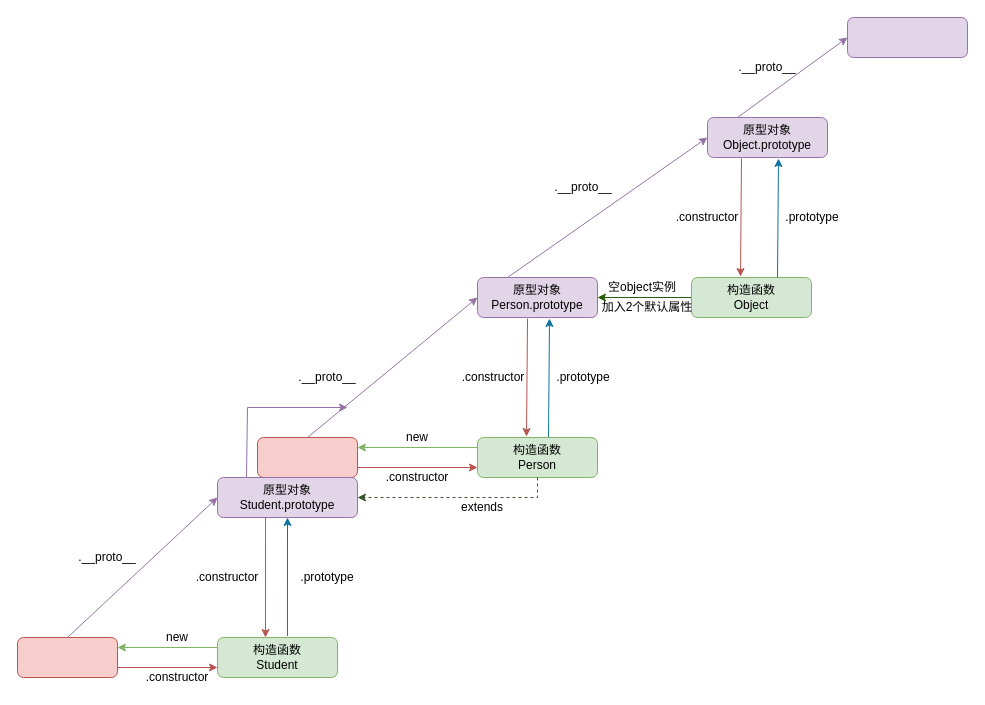
This 985x705 diagram has some shape labels left out. The centre of each missing label's shape, as x and y in pixels:
null: the point at 907,37
实例对象 p: the point at 307,457
实例对象 s: the point at 67,657
